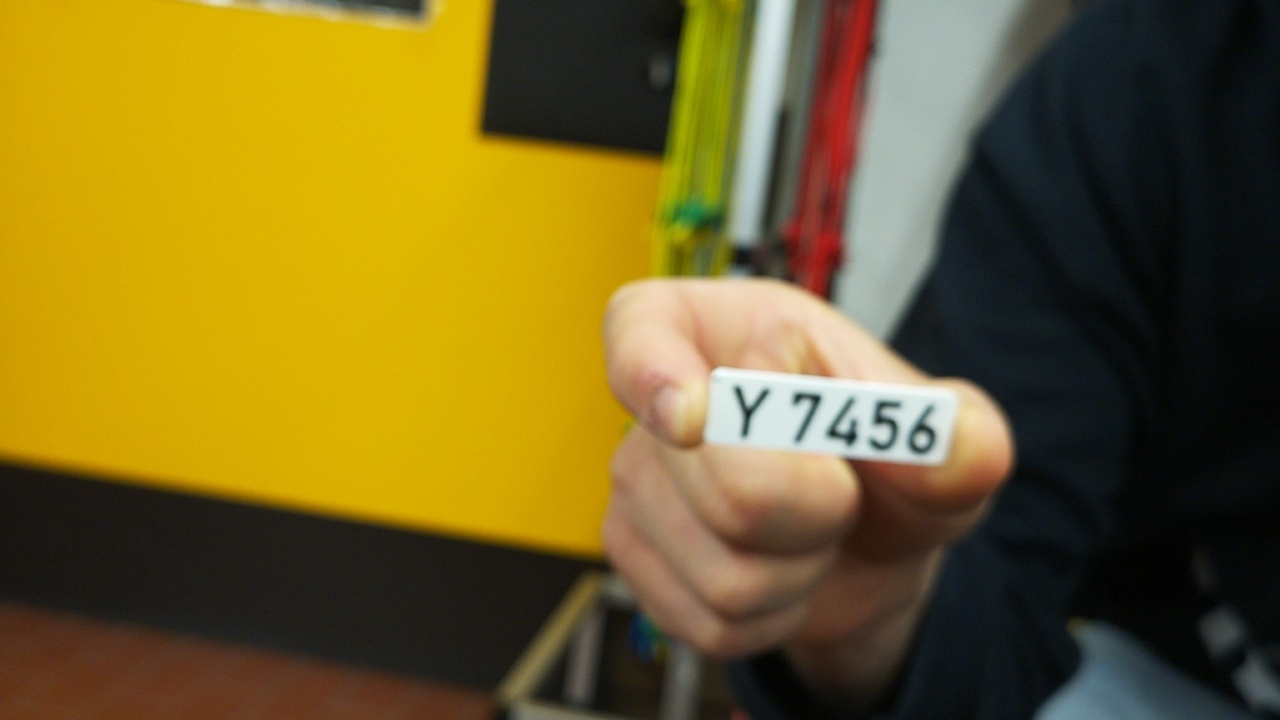license_plate: (701, 364, 959, 469)
